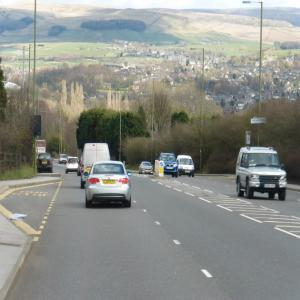Vehicle-registration-plate: (104, 181, 116, 184), (265, 185, 276, 188), (87, 169, 91, 172), (168, 168, 173, 169), (186, 172, 191, 173)
